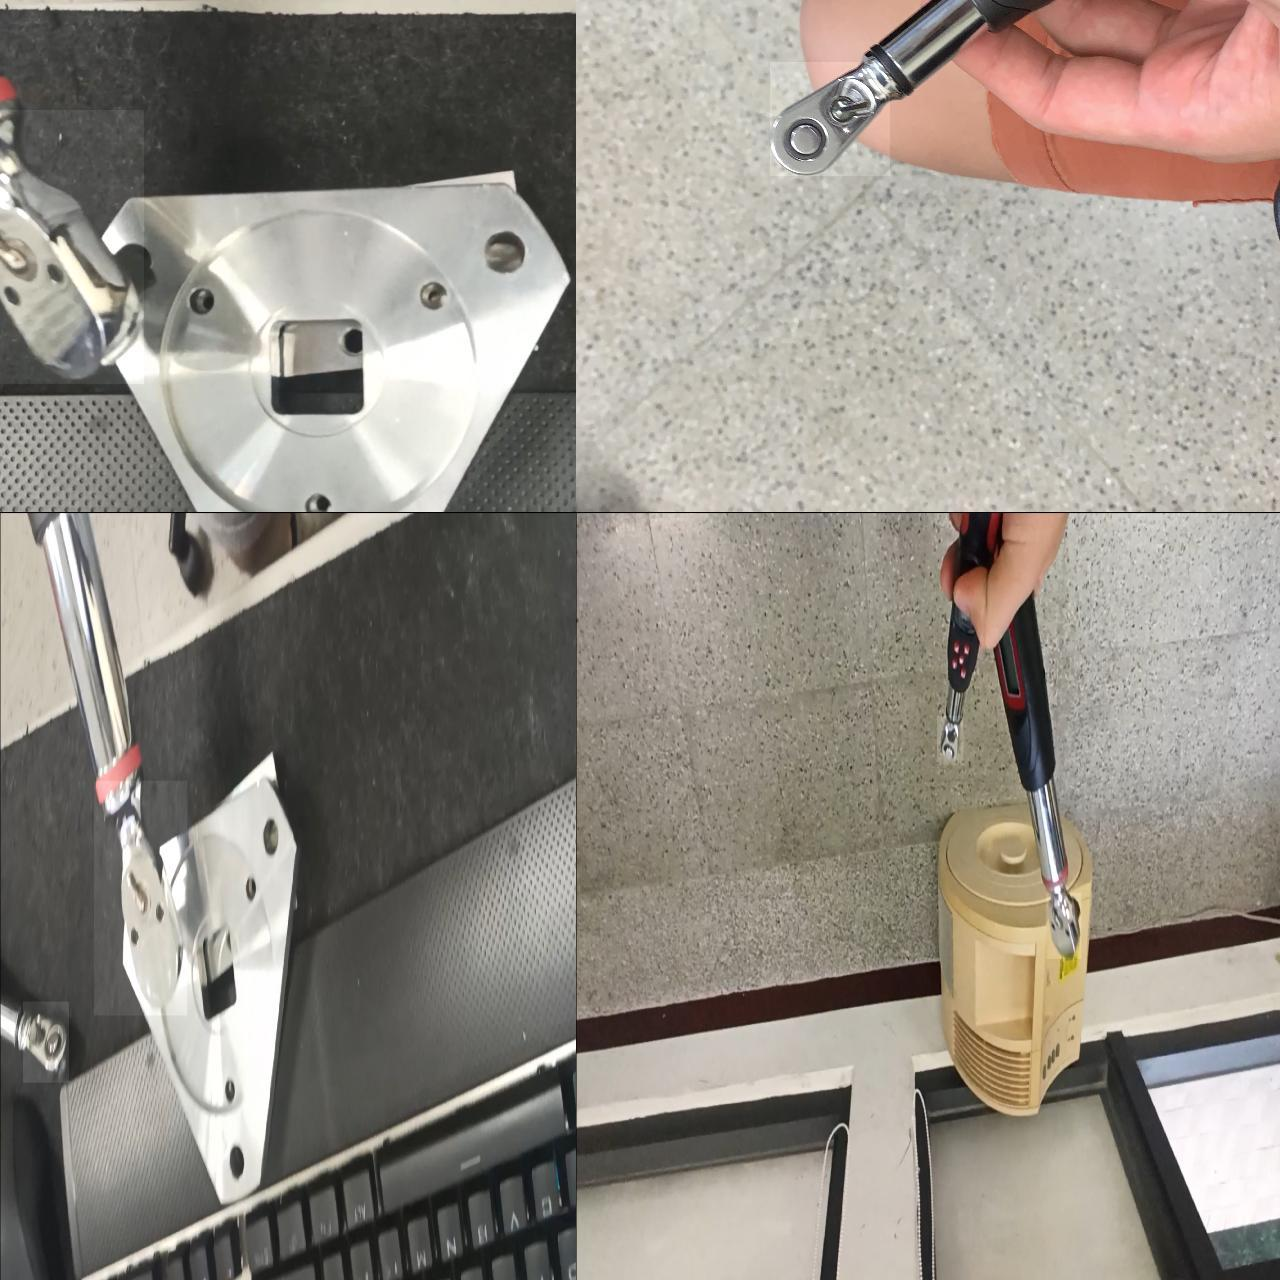Tool: (0, 109, 143, 383), (93, 780, 187, 1014), (769, 61, 889, 175), (22, 1000, 69, 1082), (1046, 892, 1081, 958), (936, 714, 963, 764)
